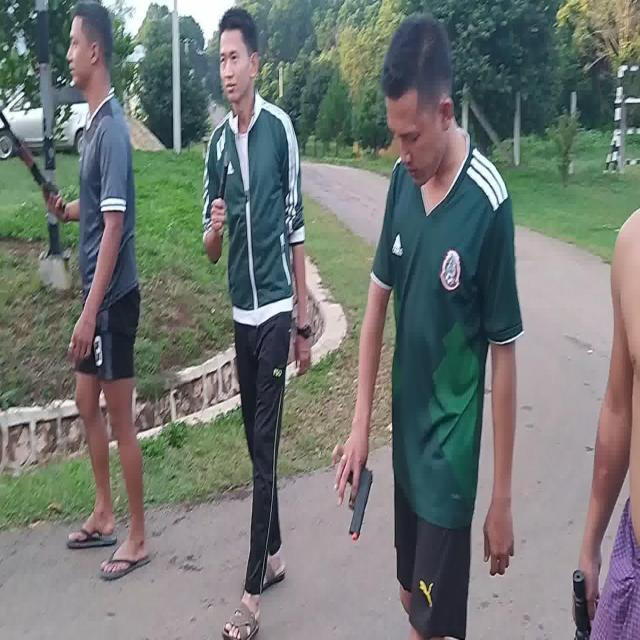gun: (1, 114, 67, 213), (350, 471, 374, 533)
